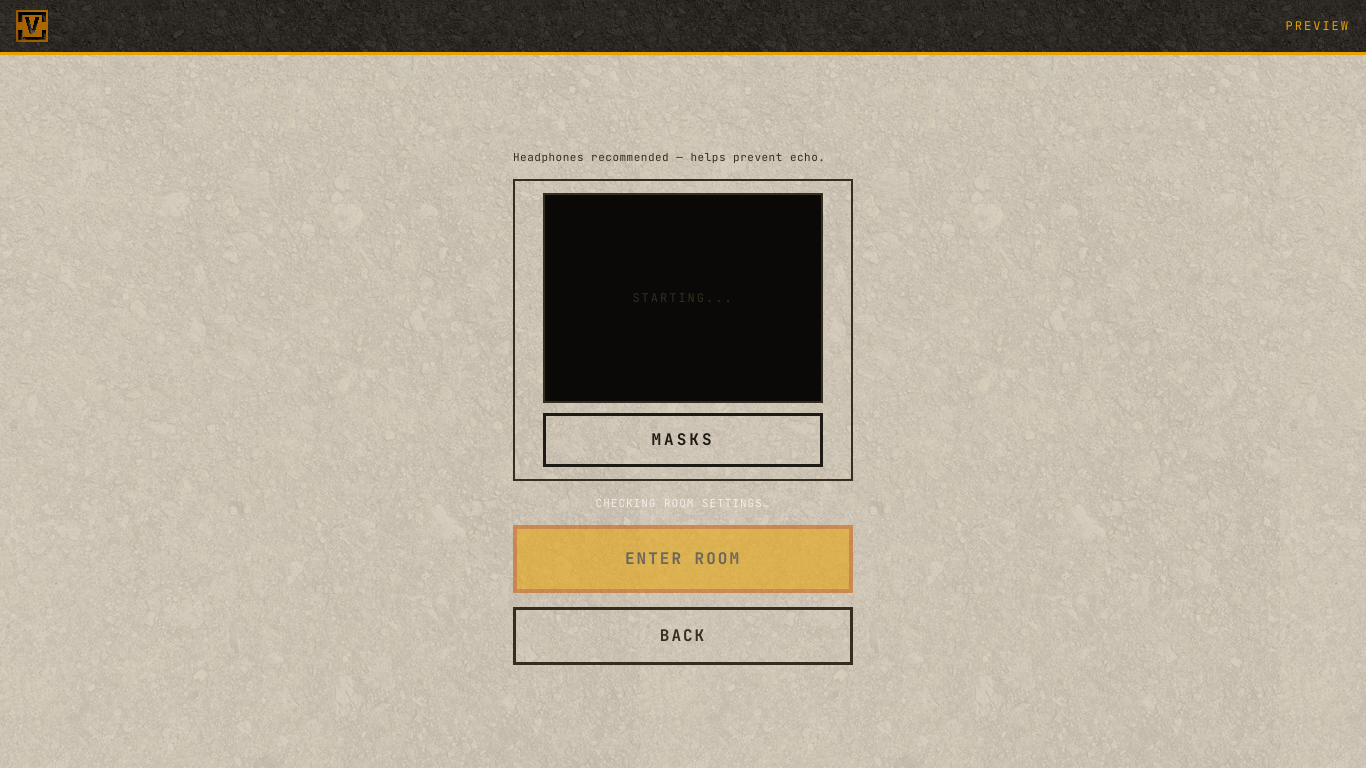
Test case: PreviewGate onion defaults › holds ENTER ROOM disabled for an onion joiner until the room-state fetch resolves, so the warning is visible before commit
The image size is (1366, 768).
Later steps or results of the test are not shown.
expect the text "CHECKING ROOM SETTINGS…" is shown: met, box [596,496,770,510]
Click the button with test id "enter-room" at [683, 559], box [513,525,853,593]
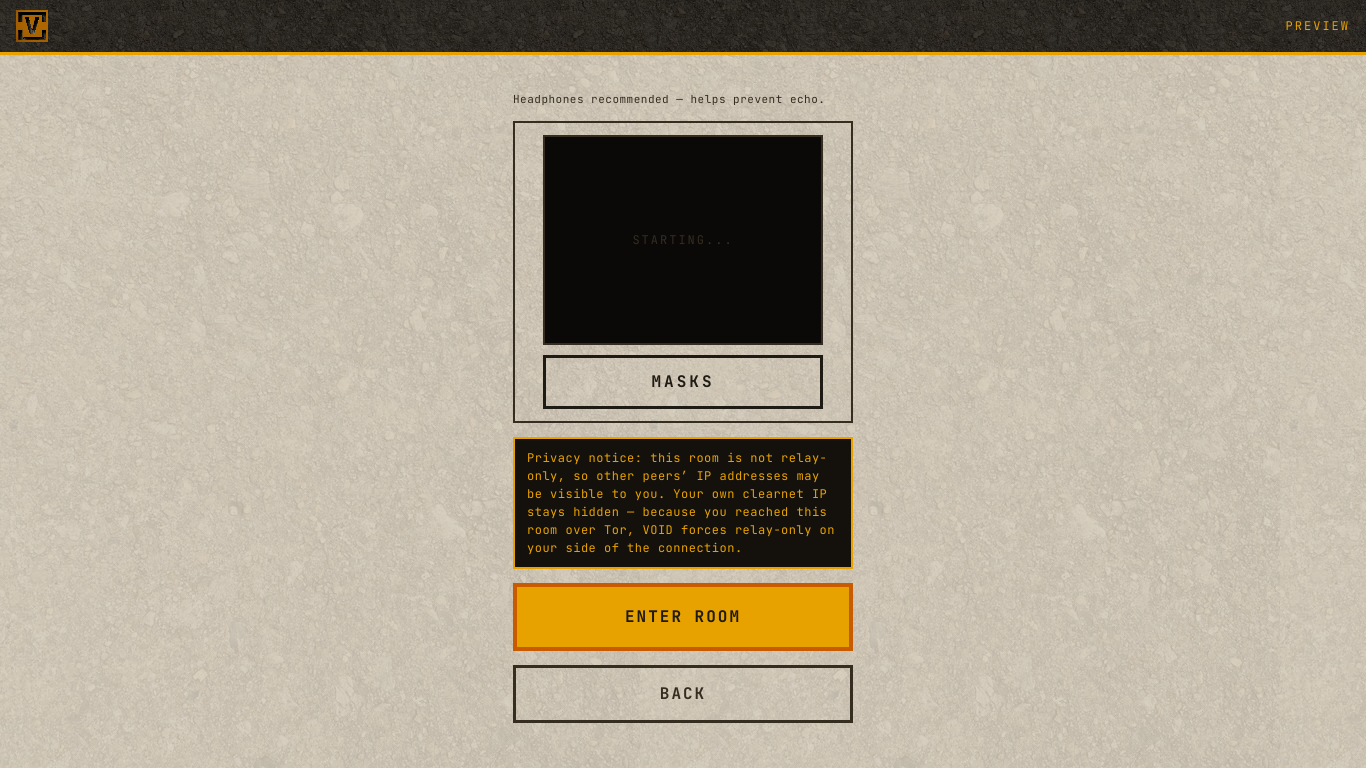
expect the text with test id "onion-join-warning" is shown: met, box [513,437,853,569]
expect the button with test id "enter-room" is enabled: met, box [513,583,853,651]
expect the text with test id "onion-join-gate-pending" is gone: met
